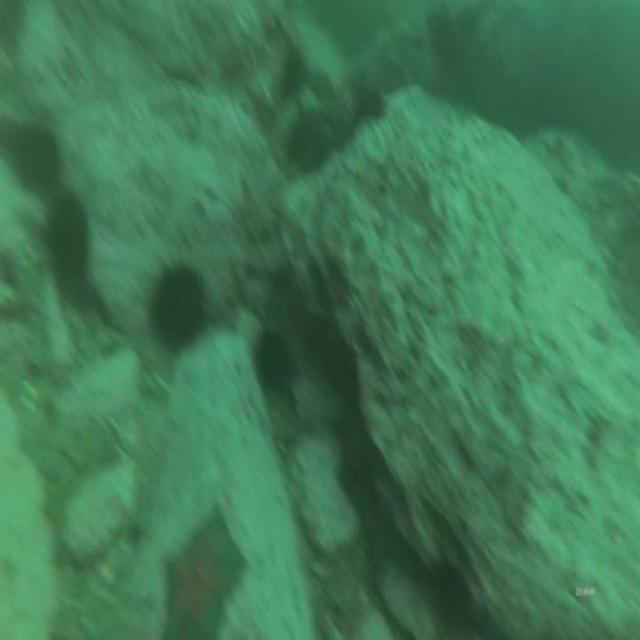echinus: (149, 256, 208, 359), (47, 182, 90, 290), (17, 121, 62, 198), (430, 556, 472, 638), (252, 322, 294, 404), (319, 332, 361, 409), (278, 42, 310, 108), (350, 85, 388, 125)
starfish: (155, 502, 247, 640)
